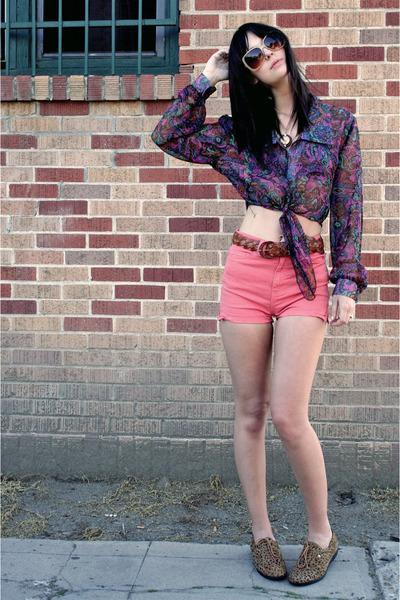shirt: (151, 66, 372, 299)
shoe: (247, 532, 336, 586)
shorts: (218, 237, 325, 336)
sunglass: (242, 48, 269, 77)
